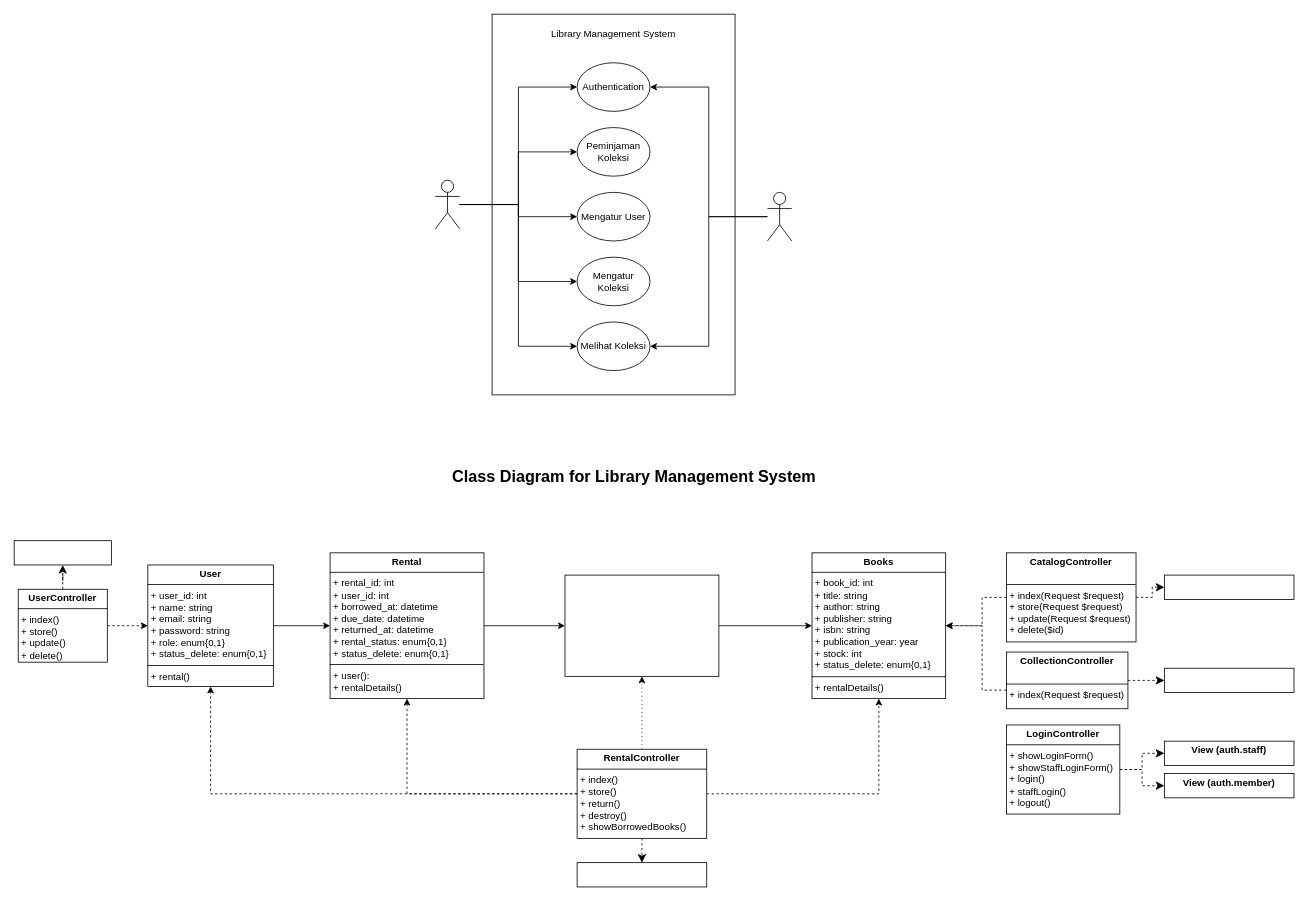
Some shapes in this 1308 by 902 pixel diagram are drawn without their labels. Each missing label, with the box of its shape:
Anggota: (767, 192, 792, 241)
RentalDetail + id: int + rental_id: int + book_id: int + rental() + book(): (564, 574, 719, 676)
Staff: (435, 179, 460, 229)
View (catalog.index): (1164, 574, 1294, 599)
View (home): (1164, 667, 1294, 693)
View (rental.index): (576, 862, 707, 887)
View (users.index): (13, 540, 111, 565)
